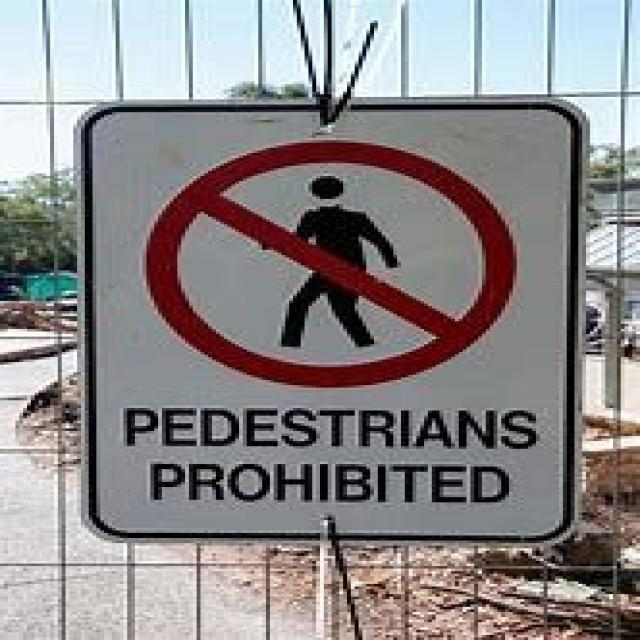PEDESTRIAN_PROHIBITED: (138, 138, 516, 388)
